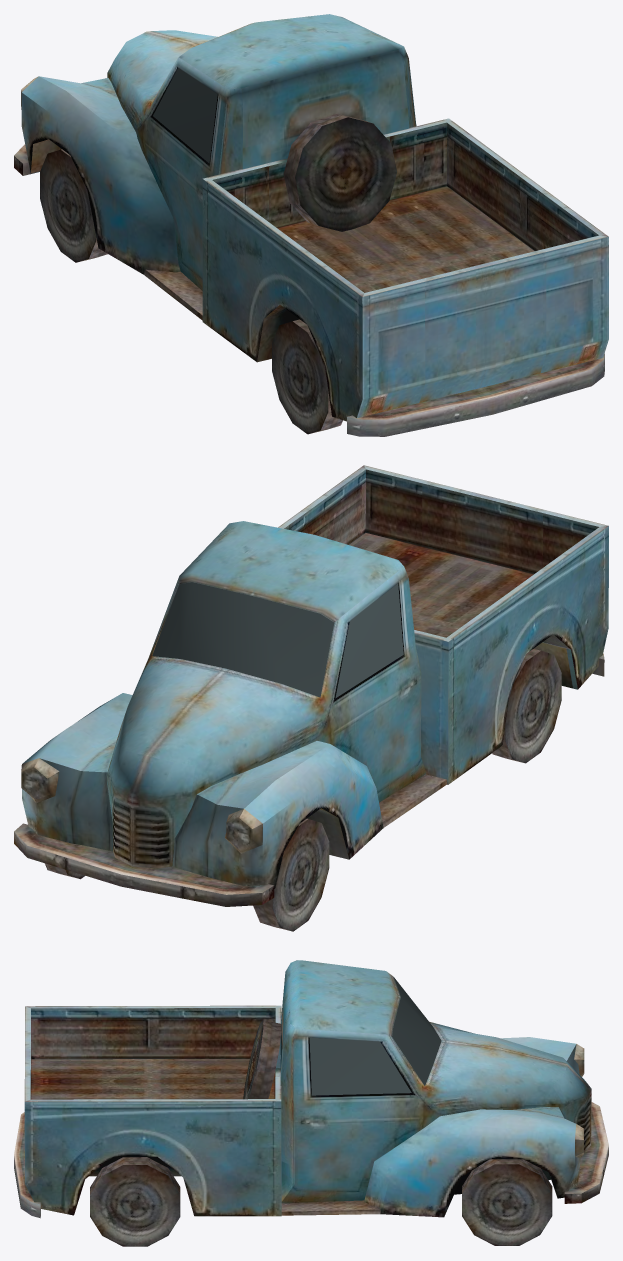
Rendered from p54_25_pickup_vintage_blue.glb.
3 views of the same model, one above another, from view 1: azimuth 30°, elevation 25°; view 2: azimuth 150°, elevation 25°; view 3: azimuth 270°, elevation 25° (orthographic). The views are drawn at different scales.
Visible parts, largest first — view 1: Body, Glass; view 2: Body, Glass; view 3: Body, Glass.
Boxes of the visible parts, x1,y1,x2,y2 form: Body: [14, 14, 608, 436]; Glass: [153, 68, 217, 163]; Body: [14, 465, 608, 931]; Glass: [152, 582, 403, 698]; Body: [14, 960, 608, 1246]; Glass: [309, 977, 441, 1095].
Size of the model in its own units: 1.93 by 1.94 by 4.84.
2 materials, 2 textured.
